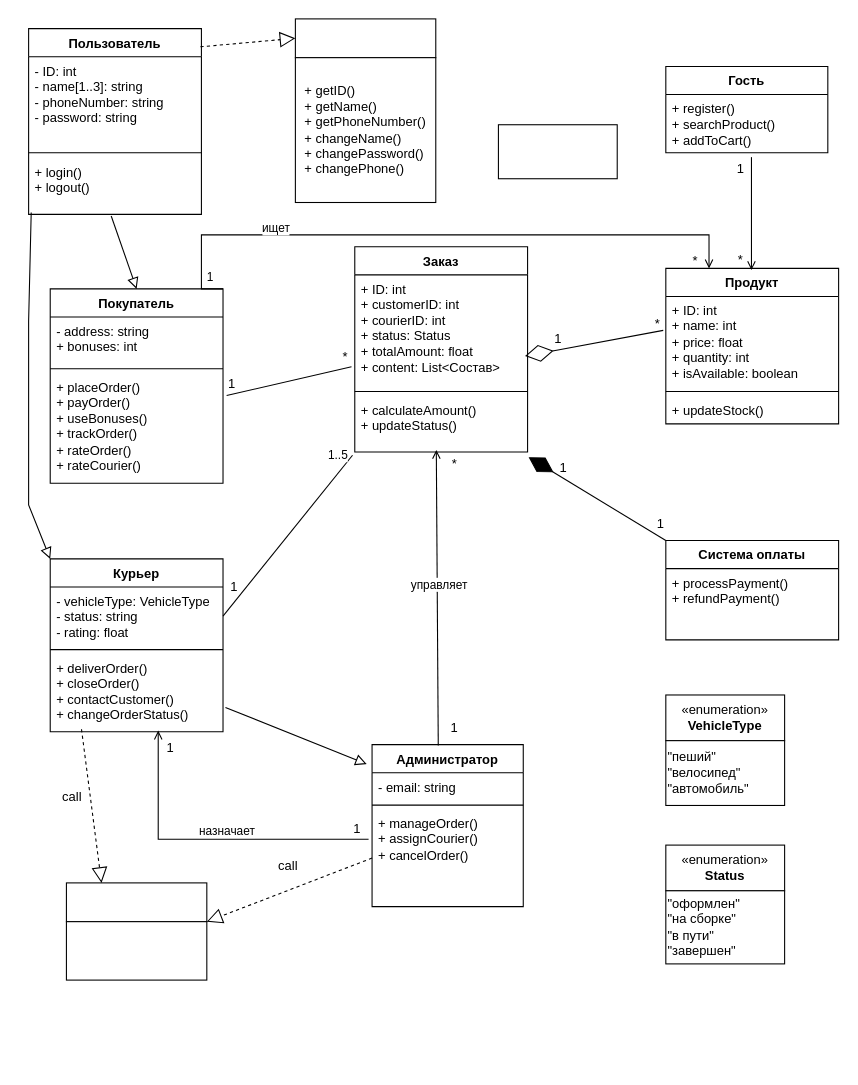
Image size: 858x1085. Some labels were removed from this diagram. The centre of each missing label's shape, as x and y in pixels:
"+ contactCustomer() + changeOrderStatus()" goes at [136,950].
"«dataType» List<Состав>" goes at [557,151].
"«interface» Персона" goes at [365,38].
"«interface» Управление заказом" goes at [136,902].
